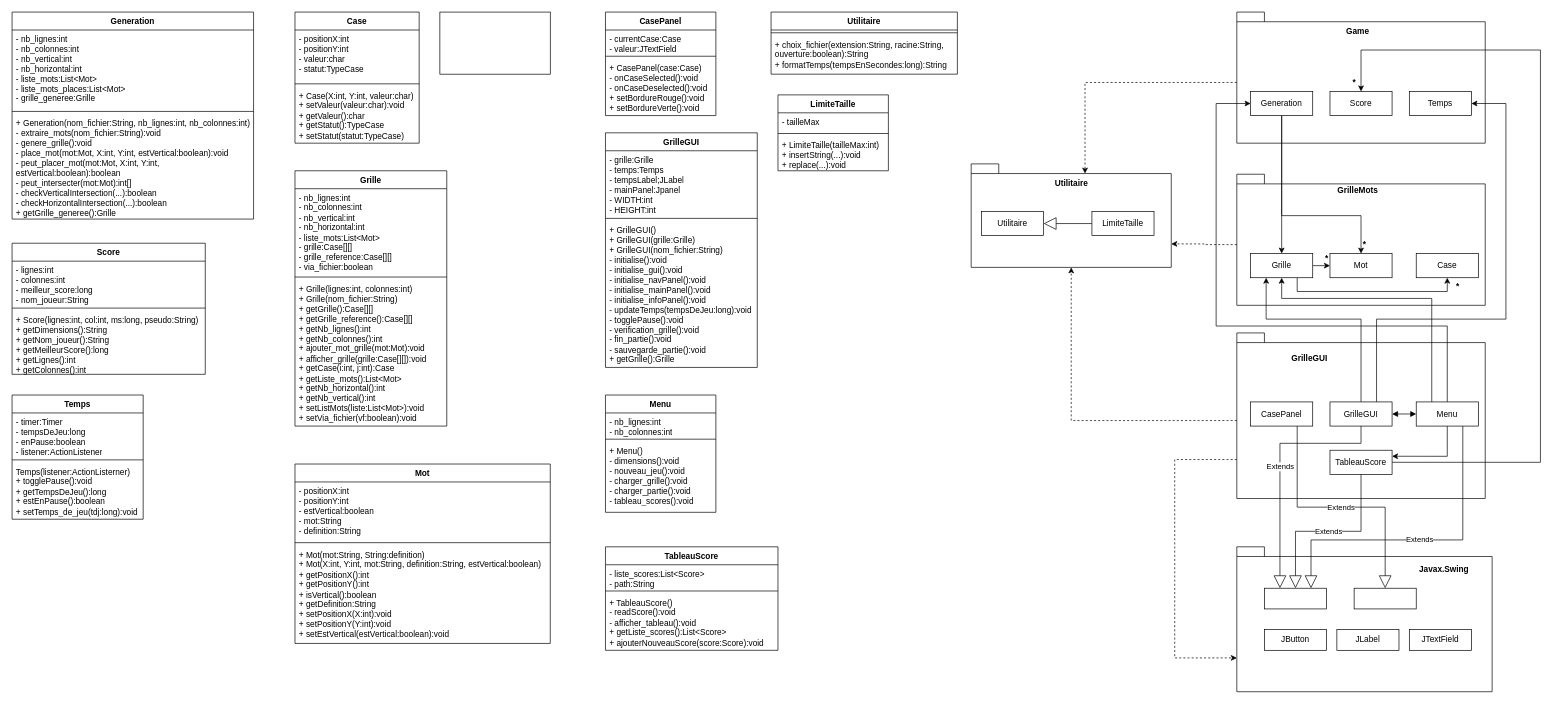
The diagram is 1558 pixels wide and 704 high, and some of its shapes have lost their labels. The shapes that lost their labels are listed below. From the top down, each one's centre as x and y in pixels, then its label:
[494,42]: Case:TypeCase NEUTRE REMPLIE VIDE
[1295,598]: JFrame
[1384,598]: JPanel
